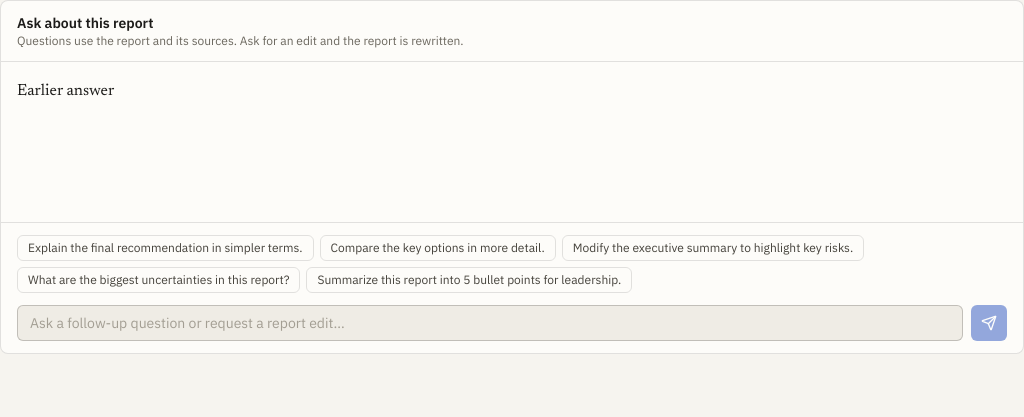
ReportChat › sends a message and applies report edits
Expected: the text "Earlier answer" is shown, x1=17 y1=83 x2=114 y2=99
Step 1. Type "Add risks" into the field with placeholder "Ask a follow-up question or request a report edit…" → (490, 323), box x1=17 y1=305 x2=963 y2=341
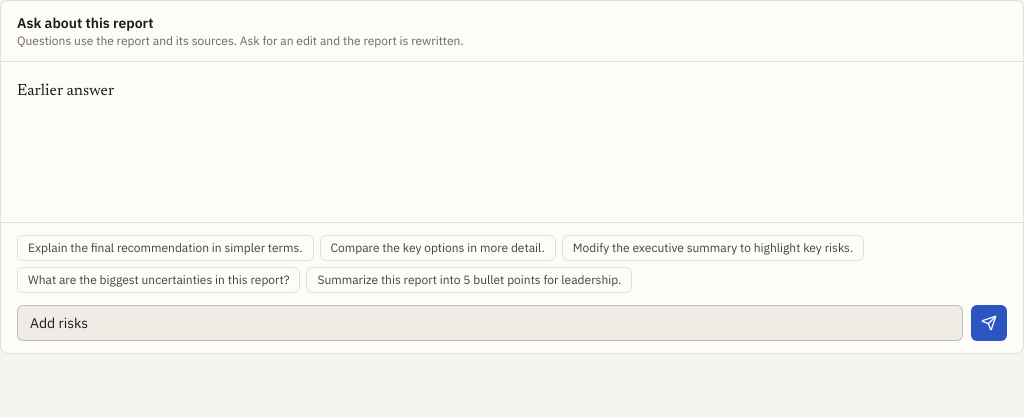
Step 2. Submit the form with placeholder "follow-up", box x1=17 y1=305 x2=1007 y2=341
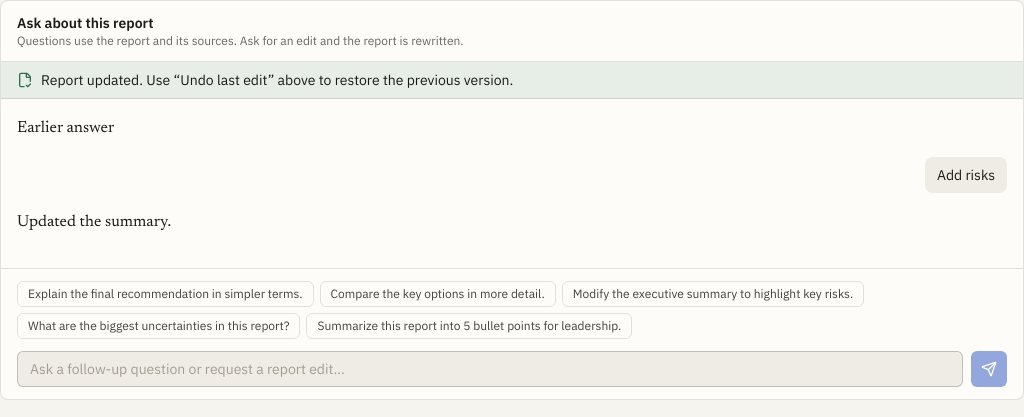
Expected: the text "Updated the summary." is shown, x1=17 y1=214 x2=171 y2=230
Expected: the text "Add risks" is shown, x1=925 y1=157 x2=1007 y2=193
Expected: the text "Report updated. Use “Undo last edit” above to restore the previous version." is shown, x1=1 y1=62 x2=1023 y2=99
